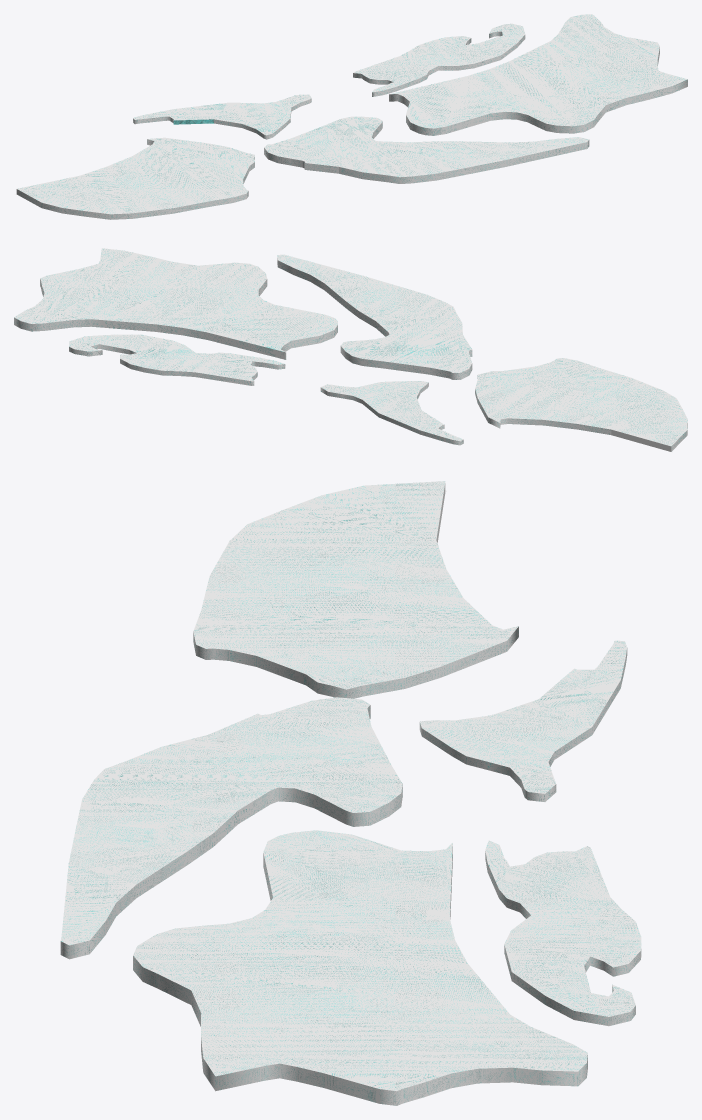
File: Hielofracturado.dae
The picture shows the model from 3 angles, top to bottom: view 1: azimuth 30°, elevation 25°; view 2: azimuth 150°, elevation 25°; view 3: azimuth 270°, elevation 25°; orthographic projection. The views are drawn at different scales.
Parts seen in each view (by area): view 1: SketchUp (×5); view 2: SketchUp (×6); view 3: SketchUp (×5).
Boxes of the visible parts, x1,y1,x2,y2 form: SketchUp (×5): [16, 14, 687, 219]; SketchUp (×6): [14, 248, 687, 451]; SketchUp (×5): [60, 481, 641, 1105].
Size of the model in its own units: 564 by 225 by 6.3.
